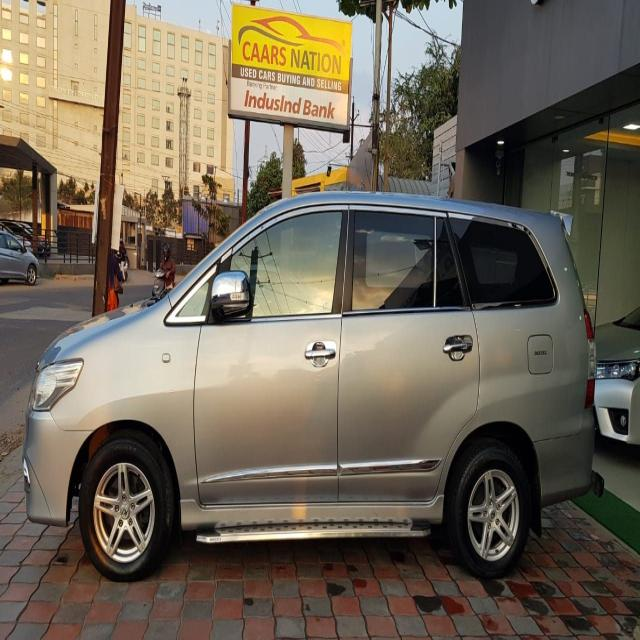light_vehicle: (21, 190, 604, 584)
